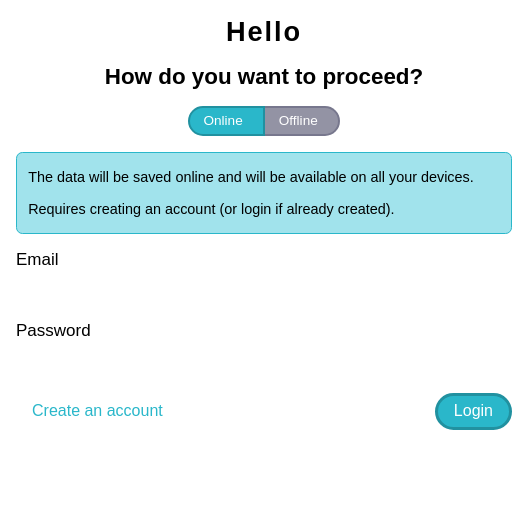
<Auth /> › online mode › should change to sign in when clicking on create account button
expect the heading "Hello" is shown: met, box [226, 16, 302, 48]
Click the button "Create an account" at (97, 411), box [16, 396, 179, 427]
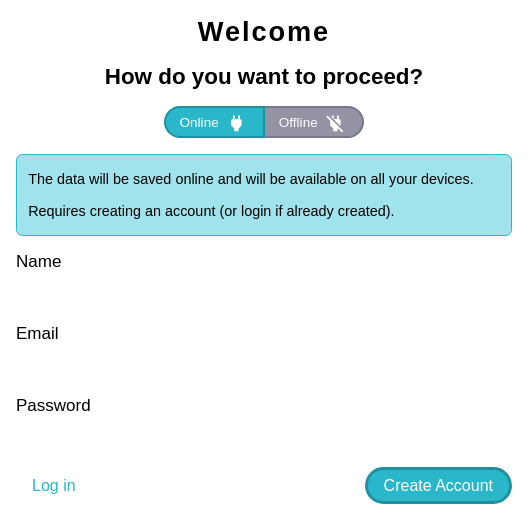
expect the heading "Welcome" is shown: met, box [198, 16, 330, 48]
